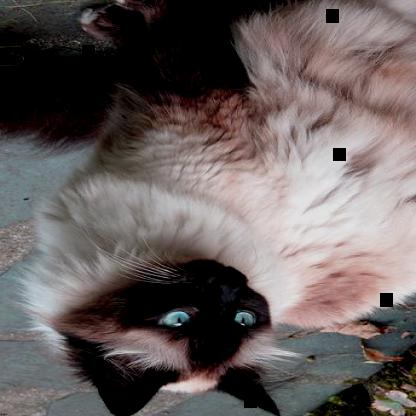cat: (35, 1, 415, 415)
